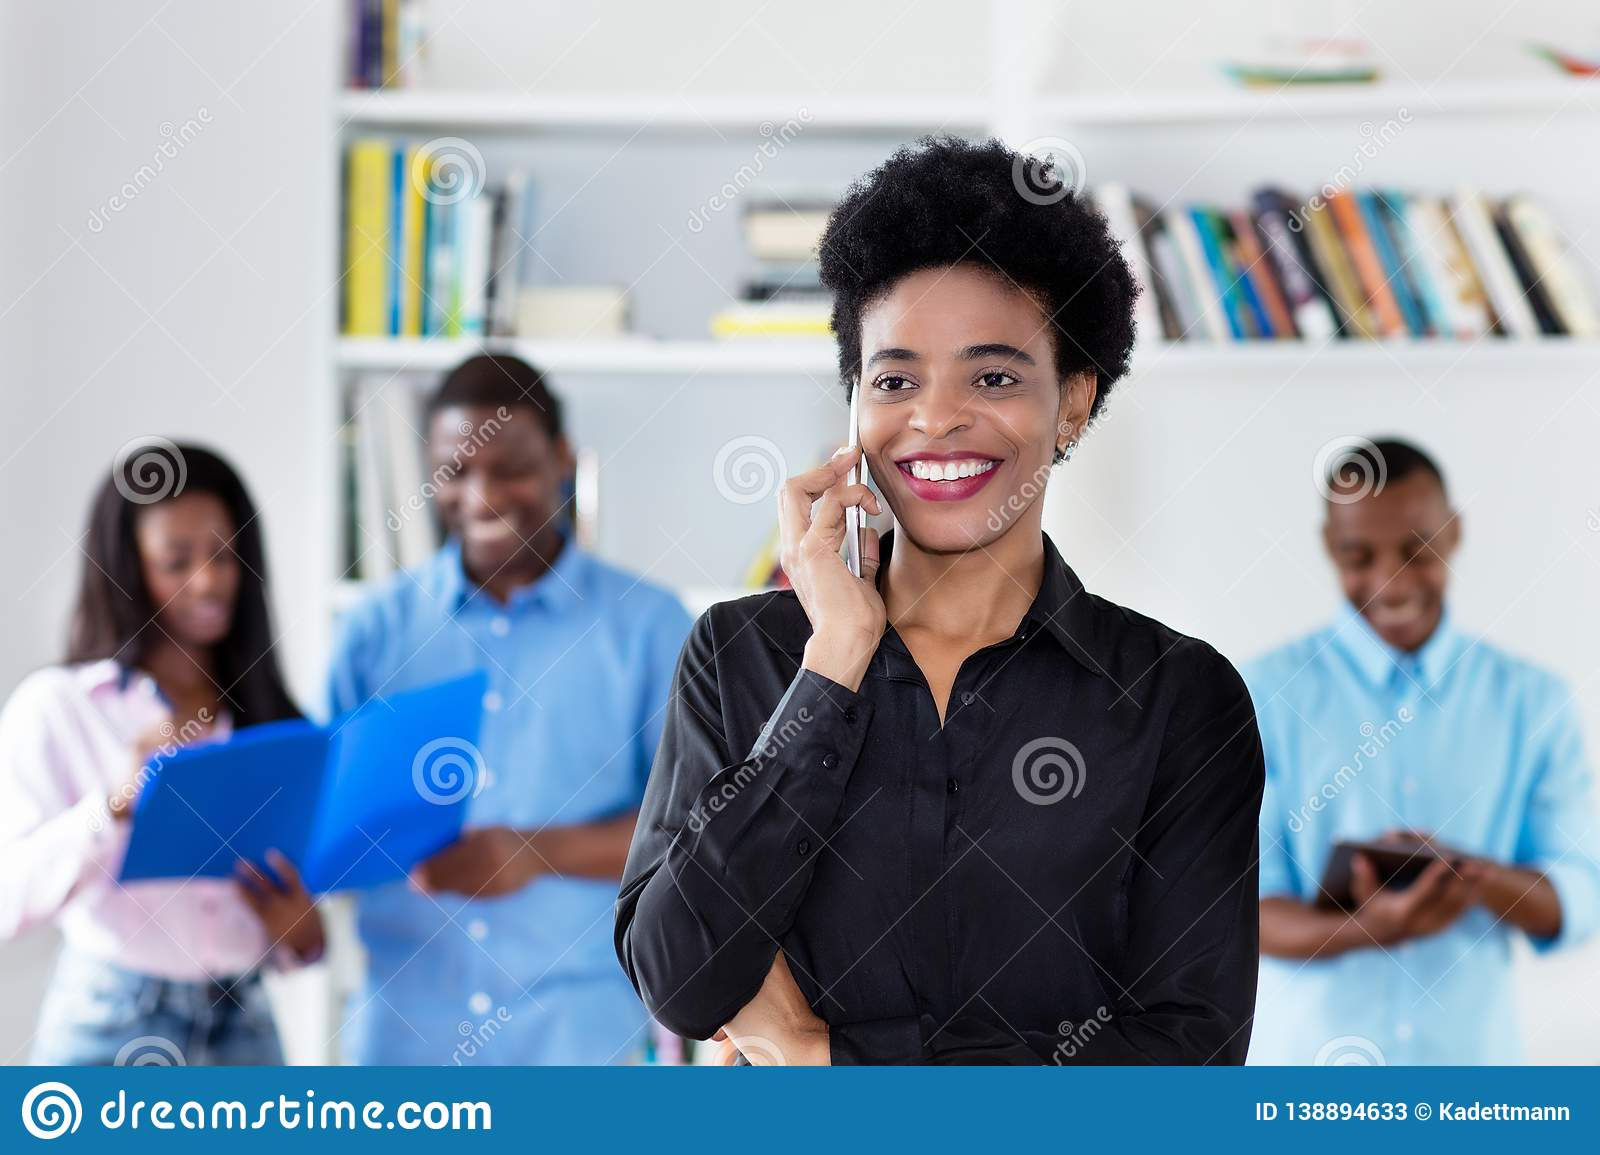phone: (831, 375, 875, 594)
talk: (776, 332, 1040, 669)
